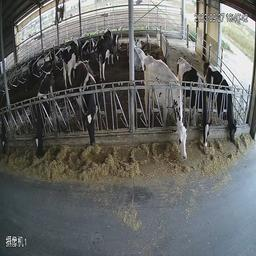cow: (141, 52, 191, 165), (178, 55, 215, 148), (67, 58, 103, 146), (205, 60, 241, 145), (31, 56, 57, 171), (95, 27, 118, 86), (60, 33, 85, 85), (133, 28, 149, 71)
